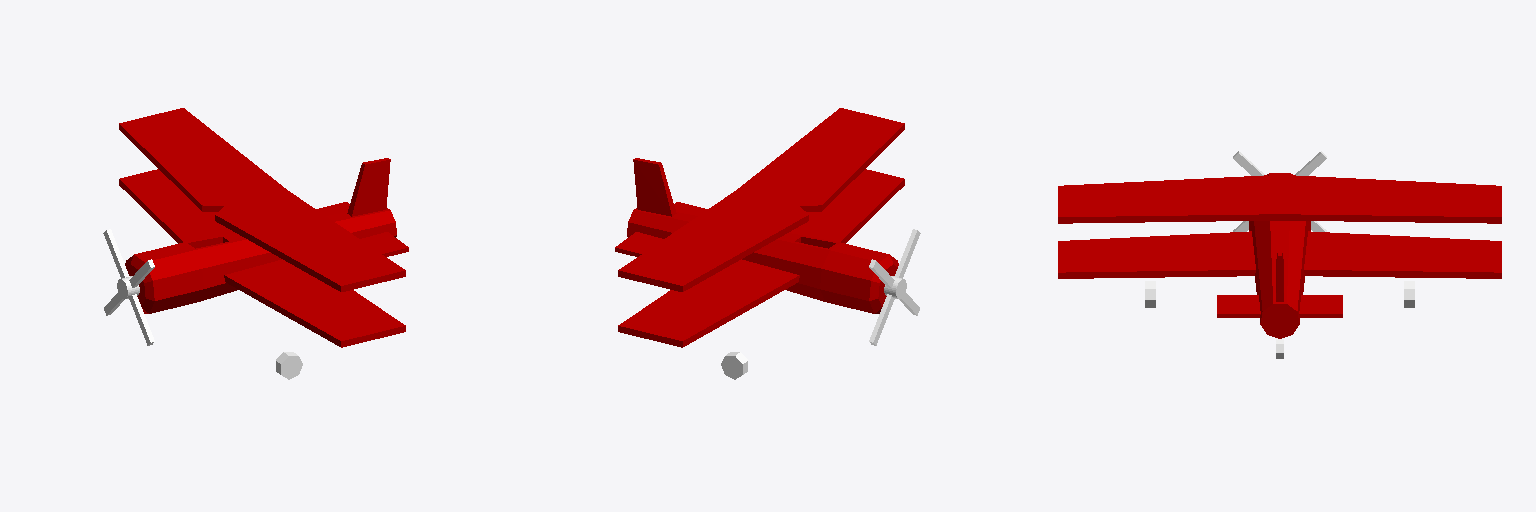
File: chopwit.obj
3 views of the same model, side by side, from view 1: azimuth 30°, elevation 25°; view 2: azimuth 150°, elevation 25°; view 3: azimuth 270°, elevation 25° (orthographic).
Visible parts, largest first — view 1: Cube.1, Cube, Cylinder, Cube.4, Cube.3, Cylinder.2, Cube.2; view 2: Cube.1, Cube, Cylinder, Cube.4, Cube.2, Cylinder.3, Cube.3; view 3: Cube.1, Cube, Cylinder, Cube.4.
Boxes of the visible parts, x1,y1,x2,y2 form: Cube.1: [119, 108, 405, 291]; Cube: [119, 169, 405, 347]; Cylinder: [125, 158, 396, 313]; Cube.4: [316, 202, 408, 256]; Cube.3: [103, 229, 154, 345]; Cylinder.2: [276, 352, 302, 379]; Cube.2: [104, 259, 154, 315]; Cube.1: [618, 108, 904, 291]; Cube: [618, 169, 904, 347]; Cylinder: [627, 158, 898, 313]; Cube.4: [615, 202, 707, 256]; Cube.2: [869, 229, 920, 345]; Cylinder.3: [721, 352, 747, 379]; Cube.3: [869, 259, 919, 315]; Cube.1: [1058, 175, 1501, 223]; Cube: [1058, 231, 1501, 278]; Cylinder: [1249, 173, 1310, 338]; Cube.4: [1217, 295, 1342, 317].
Bounding box in the file's own units: 493 × 233 × 711.